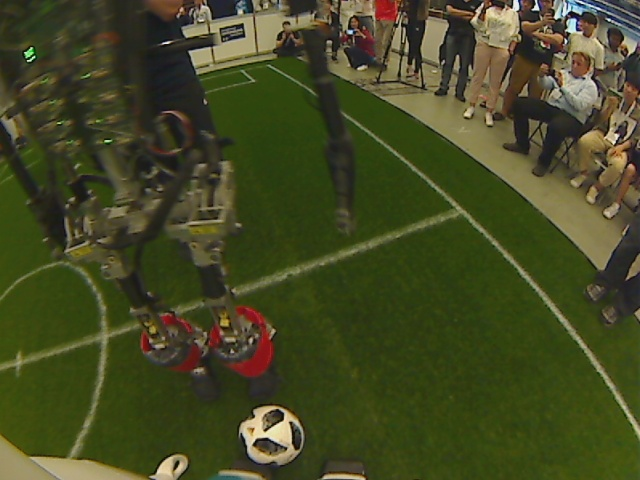ball: (236, 403, 307, 467)
